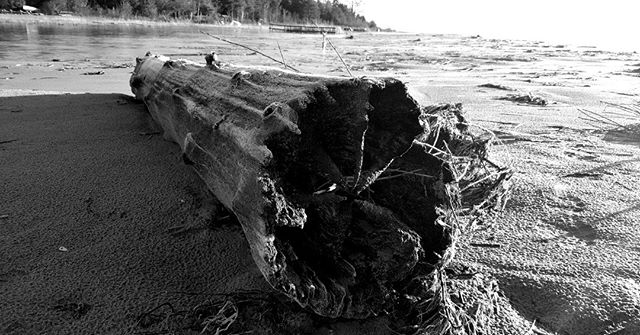tree trunk: (122, 45, 464, 312)
